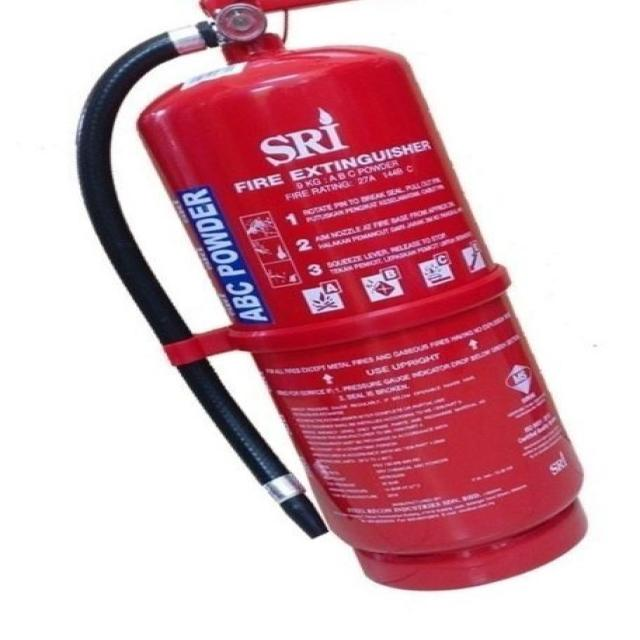fire_extinguisher: (66, 0, 594, 593)
